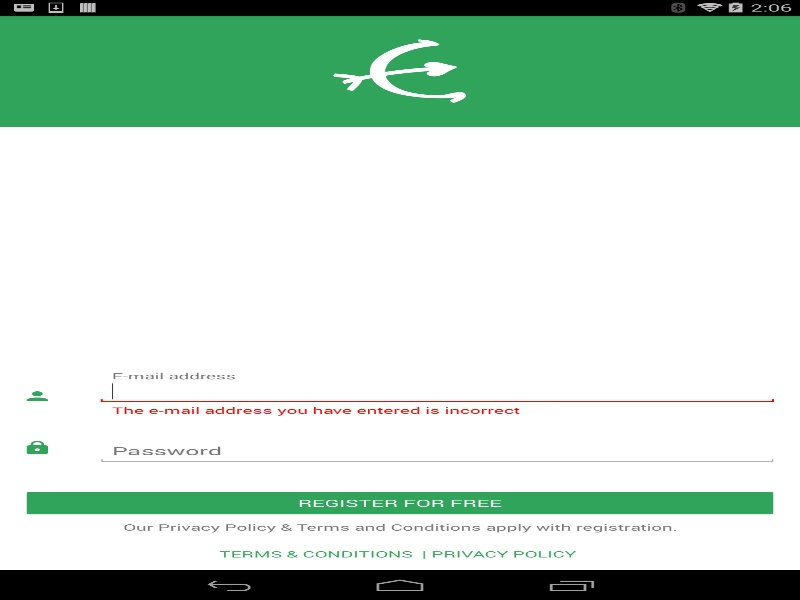Button: (21, 488, 778, 518)
Input: (96, 379, 778, 404), (96, 439, 778, 464)
